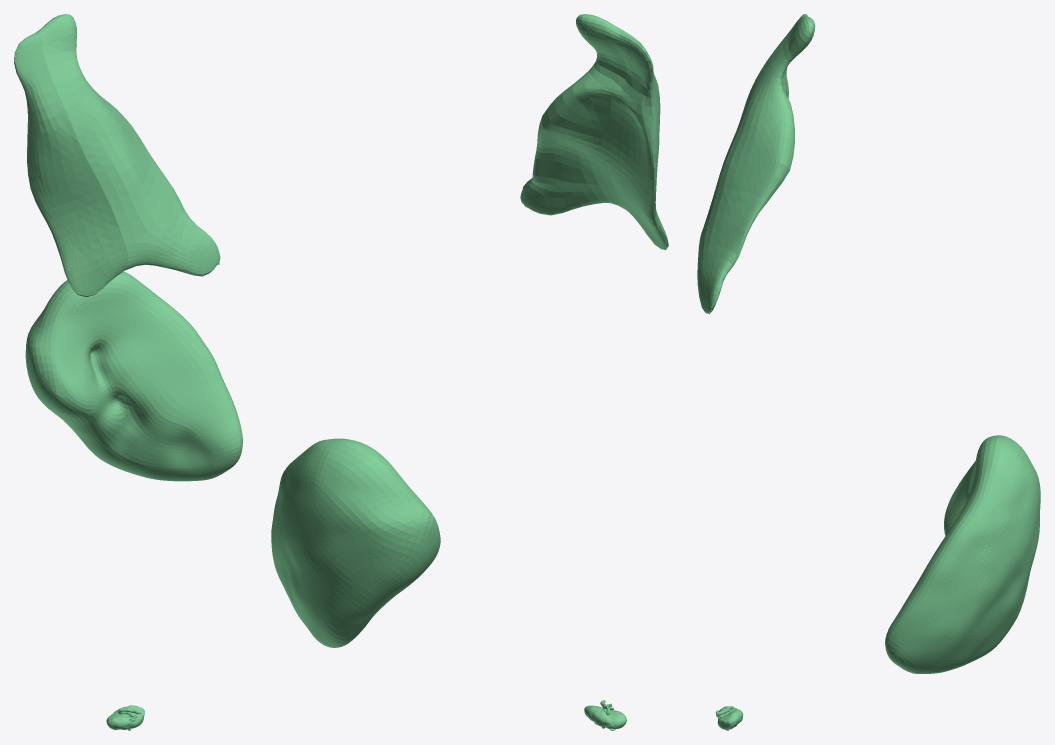
Rendered from lymphatic-organs.glb.
3 renders of one model, left to right at view 1: azimuth 30°, elevation 25°; view 2: azimuth 150°, elevation 25°; view 3: azimuth 270°, elevation 25°, orthographic. The views are drawn at different scales.
Visible parts, largest first — view 1: lymphatic-organs; view 2: lymphatic-organs; view 3: lymphatic-organs.
Part boxes in pixels (x1=…): lymphatic-organs: x1=14, y1=14, x2=242, y2=730; lymphatic-organs: x1=271, y1=14, x2=668, y2=730; lymphatic-organs: x1=697, y1=14, x2=1040, y2=730.
Size of the model in its own units: 0.147 by 0.3508 by 0.1565.
